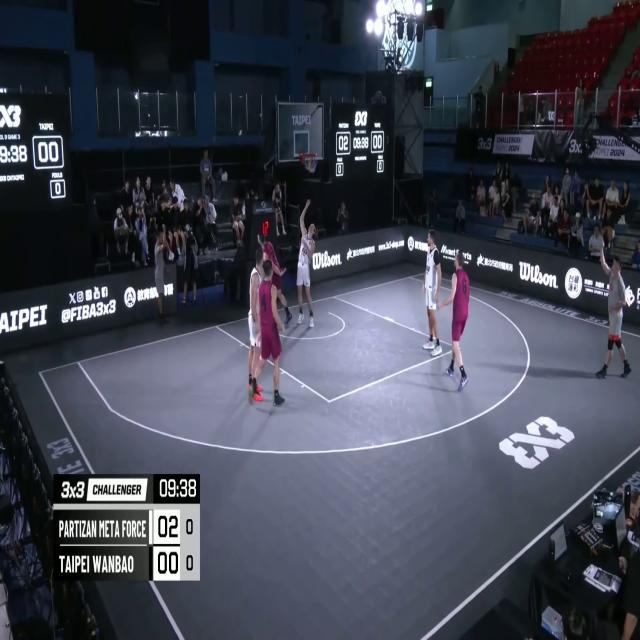ball: (305, 156, 315, 173)
hoop: (301, 150, 318, 179)
player: (250, 257, 288, 413), (436, 251, 472, 394), (260, 226, 292, 333), (248, 242, 267, 400), (296, 199, 316, 330), (421, 228, 441, 357)
